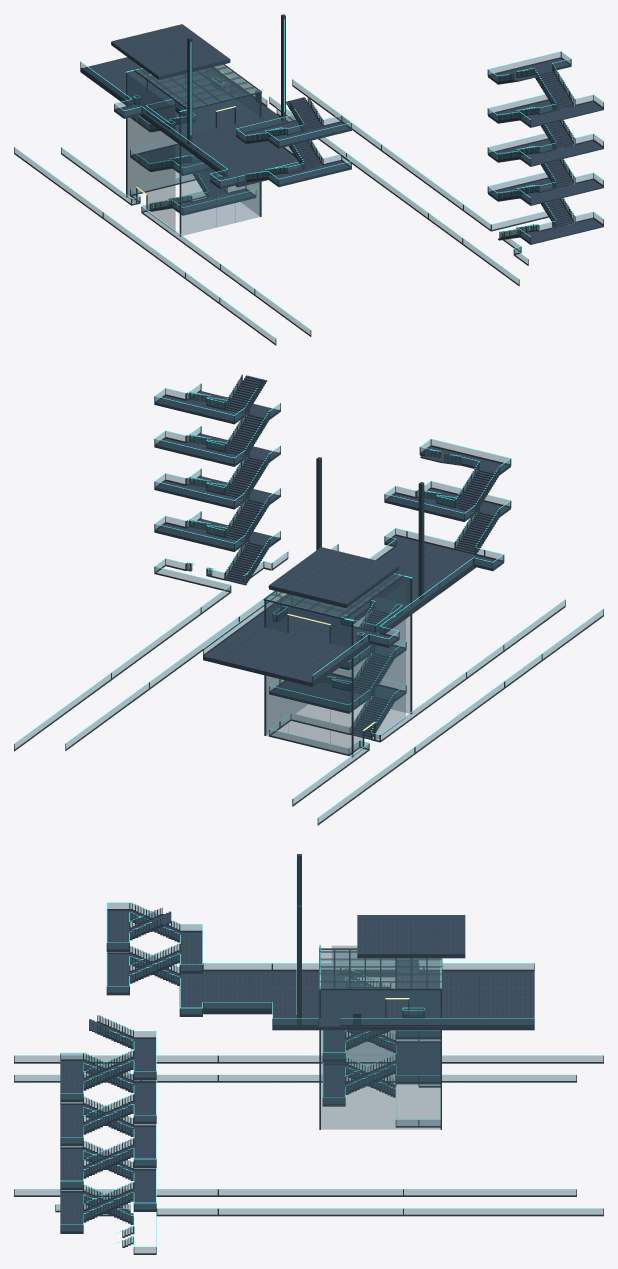
Rendered from station-pavilion-replacement.glb.
3 views of the same model, one above another, from view 1: azimuth 30°, elevation 25°; view 2: azimuth 150°, elevation 25°; view 3: azimuth 270°, elevation 25° (orthographic). The views are drawn at different scales.
Visible parts, largest first — view 1: station-pavilion-replacement; view 2: station-pavilion-replacement; view 3: station-pavilion-replacement.
Boxes of the visible parts, <box> form: station-pavilion-replacement: <box>14,14,603,345</box>; station-pavilion-replacement: <box>14,374,603,825</box>; station-pavilion-replacement: <box>14,854,603,1254</box>.
Size of the model in its own units: 58.79 by 33.53 by 76.5.
6 materials, 1 textured.
